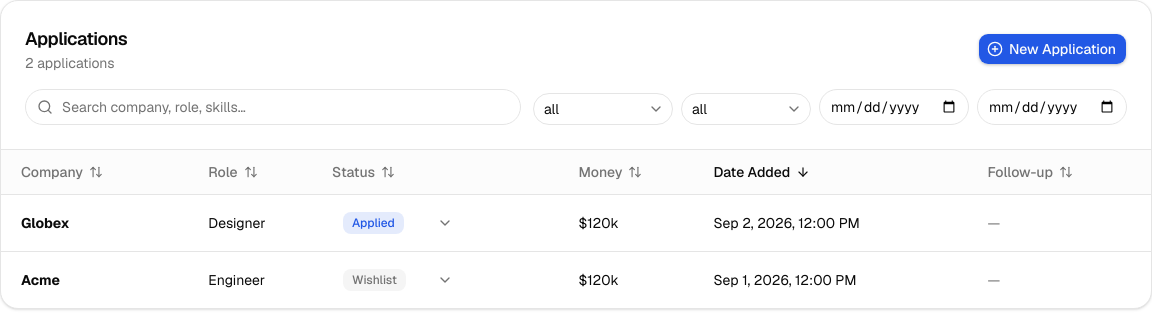
Test: ApplicationsDashboard › filters the loaded table by search
Expected: the text "Engineer" is shown, x1=200 y1=251 x2=324 y2=308
Expected: the text "Designer" is shown, x1=200 y1=194 x2=324 y2=251
Type "globex" into the search field named "search applications by company, role, or skills" at (273, 107), box x1=25 y1=89 x2=521 y2=125
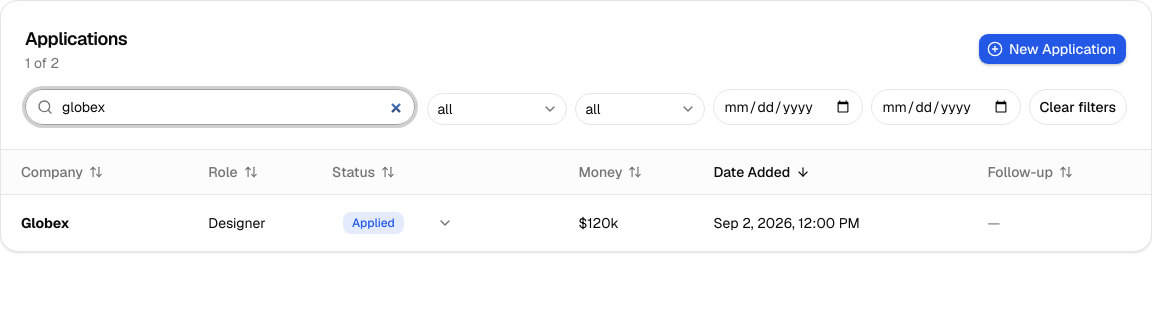
Expected: the text "Designer" is shown, x1=200 y1=194 x2=324 y2=250
Now the text "Engineer" is gone
